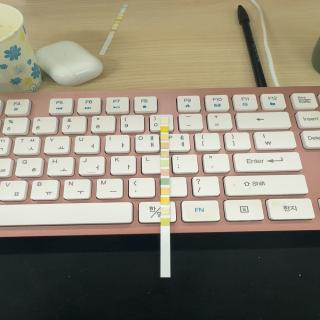mark: (160, 218, 170, 226), (160, 198, 170, 205), (161, 208, 170, 215), (161, 188, 169, 195), (161, 178, 169, 185), (161, 169, 169, 176), (160, 152, 169, 158), (160, 142, 168, 148), (160, 134, 168, 140), (160, 126, 168, 132), (161, 160, 168, 166), (161, 118, 168, 124)
